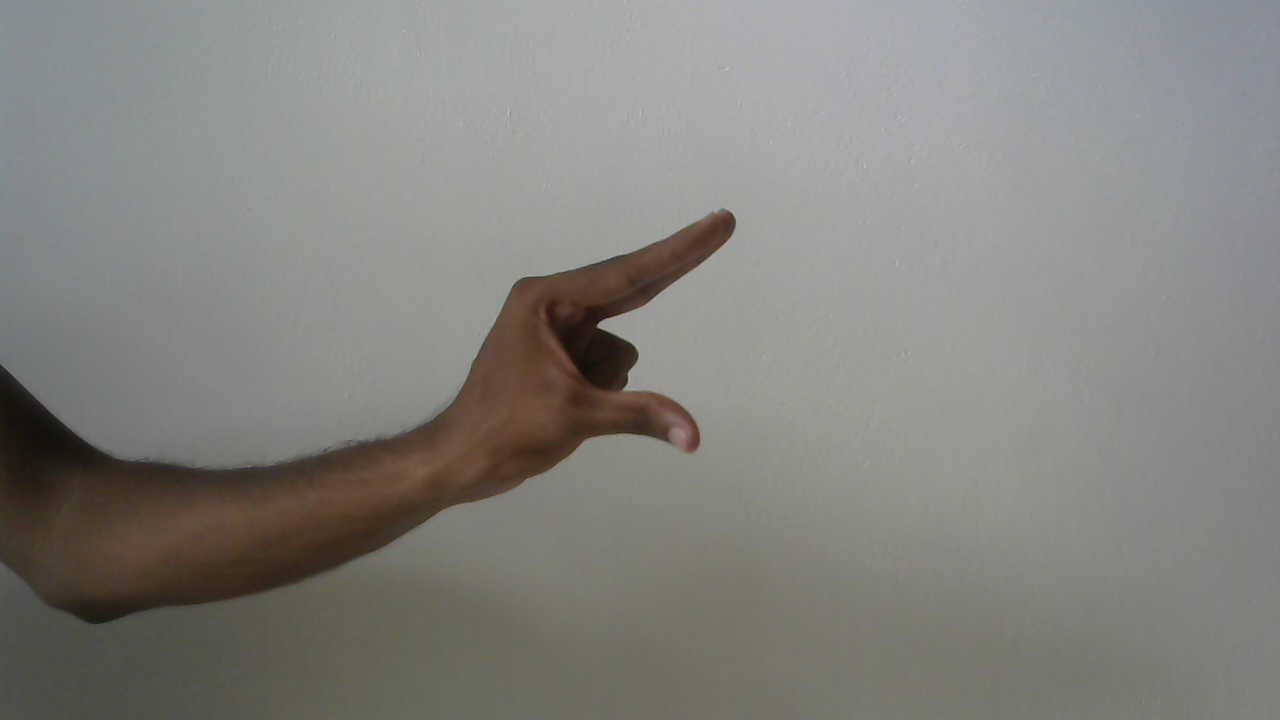no: (442, 197, 762, 503)
